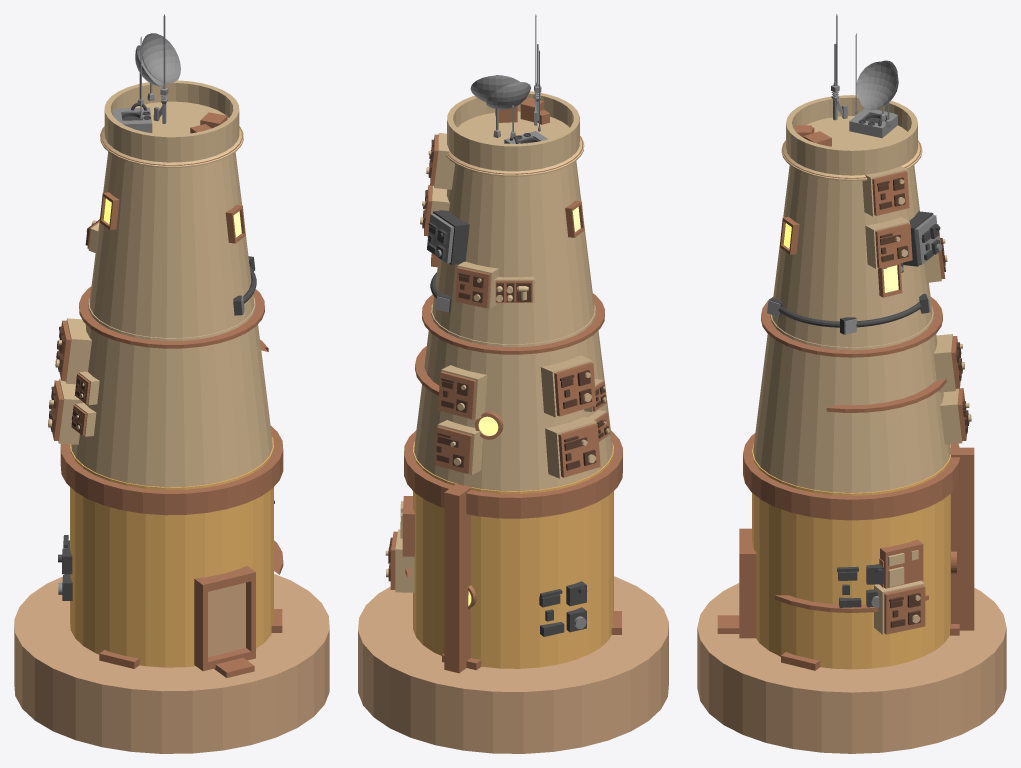
The model's file is nomad_building_01.fbx.
The picture shows the model from 3 angles, left to right: view 1: azimuth 30°, elevation 25°; view 2: azimuth 150°, elevation 25°; view 3: azimuth 270°, elevation 25°; orthographic projection. The views are drawn at different scales.
Parts seen in each view (by area): view 1: B01_M_Foundation_foundation, B01_M_Drum0, B01_M_Drum1, B01_M_Drum2, B01_M_Crown_RoofDeck_Ringwall, B01_M_Ring00_TowerTrim_BandTall, B01_M_Door_Door_Frame, B01_M_Door_Door_Leaf, B01_M_Ring10_TowerTrim_BandThin, B01_M_Dish0_AntennaDish_Reflector, B01_M_Panel8_MeterBox_Backplate, B01_M_Panel8_MeterBox_Backplate005 (+2 smaller); view 2: B01_M_Foundation_foundation, B01_M_Drum0, B01_M_Drum2, B01_M_Drum1, B01_M_Crown_RoofDeck_Ringwall, B01_M_Ring00_TowerTrim_BandTall, B01_M_Pilaster1_TowerTrim_Pilaster, B01_M_Ring10_TowerTrim_BandThin, B01_M_Panel8_MeterBox_Face005, B01_M_Panel8_MeterBox_Face, B01_M_Panel10_MeterBox_Face005, B01_M_Panel10_MeterBox_Face (+12 smaller); view 3: B01_M_Foundation_foundation, B01_M_Drum1, B01_M_Drum0, B01_M_Drum2, B01_M_Crown_RoofDeck_Ringwall, B01_M_Ring00_TowerTrim_BandTall, B01_M_Pilaster1_TowerTrim_Pilaster, B01_M_Ring10_TowerTrim_BandThin, B01_M_Door_Door_Frame, B01_M_Dish0_AntennaDish_Reflector, B01_M_Gear0_MeterBox_Face, B01_M_Gear12_PanelBox_Body (+12 smaller).
Boxes of the visible parts, <box> form: B01_M_Foundation_foundation: <box>14,574,329,753</box>; B01_M_Drum0: <box>70,437,273,667</box>; B01_M_Drum1: <box>71,297,272,487</box>; B01_M_Drum2: <box>89,152,254,337</box>; B01_M_Crown_RoofDeck_Ringwall: <box>100,80,243,168</box>; B01_M_Ring00_TowerTrim_BandTall: <box>60,426,283,515</box>; B01_M_Door_Door_Frame: <box>194,566,255,671</box>; B01_M_Door_Door_Leaf: <box>208,582,245,656</box>; B01_M_Ring10_TowerTrim_BandThin: <box>79,286,264,348</box>; B01_M_Dish0_AntennaDish_Reflector: <box>141,33,180,83</box>; B01_M_Panel8_MeterBox_Backplate: <box>65,318,91,384</box>; B01_M_Panel8_MeterBox_Backplate005: <box>58,378,83,444</box>; B01_M_Foundation_foundation: <box>358,576,668,753</box>; B01_M_Drum0: <box>413,441,613,668</box>; B01_M_Drum2: <box>432,161,594,344</box>; B01_M_Drum1: <box>414,303,612,491</box>; B01_M_Crown_RoofDeck_Ringwall: <box>445,91,584,176</box>; B01_M_Ring00_TowerTrim_BandTall: <box>404,430,622,518</box>; B01_M_Pilaster1_TowerTrim_Pilaster: <box>444,483,471,673</box>; B01_M_Ring10_TowerTrim_BandThin: <box>422,293,604,354</box>; B01_M_Panel8_MeterBox_Face005: <box>558,423,600,477</box>; B01_M_Panel8_MeterBox_Face: <box>554,362,596,416</box>; B01_M_Panel10_MeterBox_Face005: <box>434,426,472,473</box>; B01_M_Panel10_MeterBox_Face: <box>438,371,476,419</box>; B01_M_Foundation_foundation: <box>697,583,1006,753</box>; B01_M_Drum1: <box>753,306,950,492</box>; B01_M_Drum0: <box>752,444,950,669</box>; B01_M_Drum2: <box>772,165,932,347</box>; B01_M_Crown_RoofDeck_Ringwall: <box>781,95,922,180</box>; B01_M_Ring00_TowerTrim_BandTall: <box>743,433,960,520</box>; B01_M_Pilaster1_TowerTrim_Pilaster: <box>950,447,974,630</box>; B01_M_Ring10_TowerTrim_BandThin: <box>761,297,942,357</box>; B01_M_Door_Door_Frame: <box>739,528,756,638</box>; B01_M_Dish0_AntennaDish_Reflector: <box>859,60,897,110</box>; B01_M_Gear0_MeterBox_Face: <box>884,585,925,634</box>; B01_M_Gear12_PanelBox_Body: <box>880,539,923,588</box>.
Size of the model in its own units: 238 by 566 by 238.
